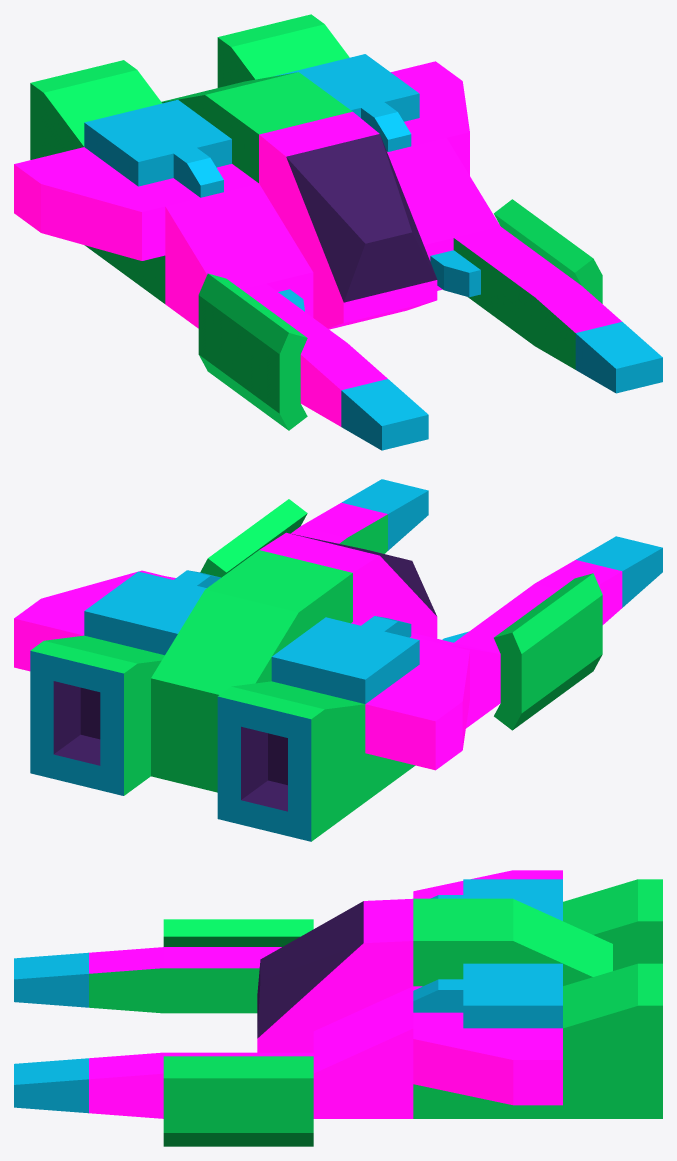
File: neon.dae
3 views of the same model, one above another, from view 1: azimuth 30°, elevation 25°; view 2: azimuth 150°, elevation 25°; view 3: azimuth 270°, elevation 25° (orthographic). The views are drawn at different scales.
Visible parts, largest first — view 1: craft_miner; view 2: craft_miner; view 3: craft_miner.
Part boxes in pixels (x1=…): craft_miner: x1=14, y1=14, x2=662, y2=450; craft_miner: x1=14, y1=479, x2=662, y2=841; craft_miner: x1=14, y1=870, x2=662, y2=1146.
Size of the model in its own units: 1.8 by 0.7 by 2.6.
